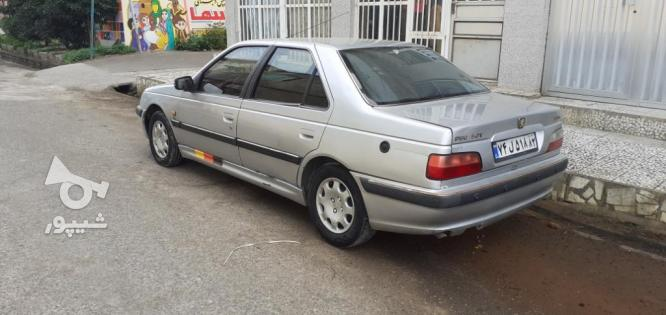car: (493, 129, 544, 164)
